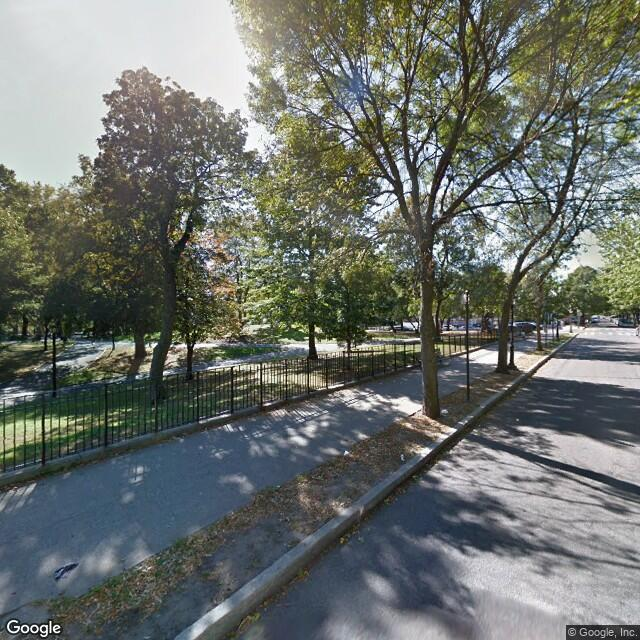litter: (395, 449, 408, 467), (342, 444, 351, 461), (273, 479, 287, 488), (167, 513, 178, 524), (442, 405, 448, 418), (513, 418, 522, 426), (198, 487, 203, 496)
